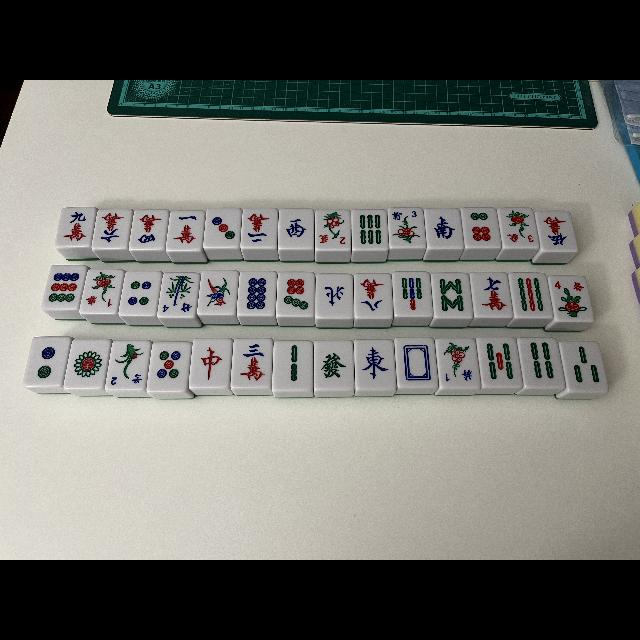b1: (198, 270, 238, 314)
b2: (272, 341, 312, 389)
b3: (560, 342, 608, 391)
b4: (518, 338, 564, 388)
b5: (478, 338, 522, 386)
b6: (352, 210, 388, 248)
b7: (393, 271, 432, 315)
b8: (432, 274, 472, 318)
b9: (508, 273, 552, 317)
c1: (168, 211, 202, 249)
c2: (241, 208, 277, 248)
c3: (232, 338, 272, 388)
c4: (130, 210, 168, 248)
c5: (536, 212, 576, 252)
c6: (92, 210, 130, 248)
c7: (470, 273, 512, 317)
c8: (353, 274, 392, 316)
c9: (56, 208, 94, 246)
d1: (64, 338, 106, 388)
d2: (23, 337, 65, 385)
d3: (204, 209, 240, 247)
d4: (120, 271, 158, 315)
d5: (148, 342, 188, 391)
d6: (462, 208, 500, 246)
d7: (276, 272, 314, 316)
d8: (238, 271, 274, 315)
d9: (43, 265, 83, 309)
dg: (314, 341, 354, 389)
dr: (191, 339, 229, 387)
dw: (396, 338, 438, 388)
f1: (436, 368, 480, 388)
f2: (105, 371, 148, 389)
f3: (388, 208, 426, 224)
f4: (159, 301, 197, 317)
s1: (82, 294, 120, 312)
s2: (315, 232, 351, 250)
s3: (498, 231, 538, 247)
s4: (548, 277, 588, 295)
we: (354, 339, 396, 388)
wn: (315, 274, 353, 318)
ws: (426, 209, 462, 247)
ww: (278, 208, 314, 248)
